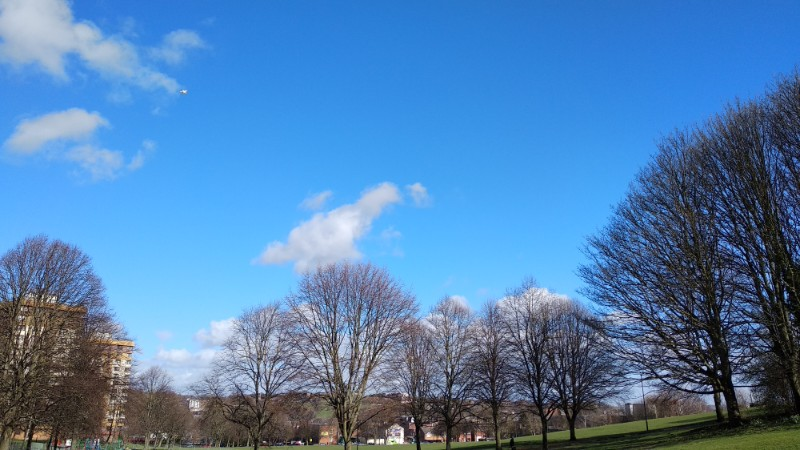drone: (180, 87, 187, 95)
